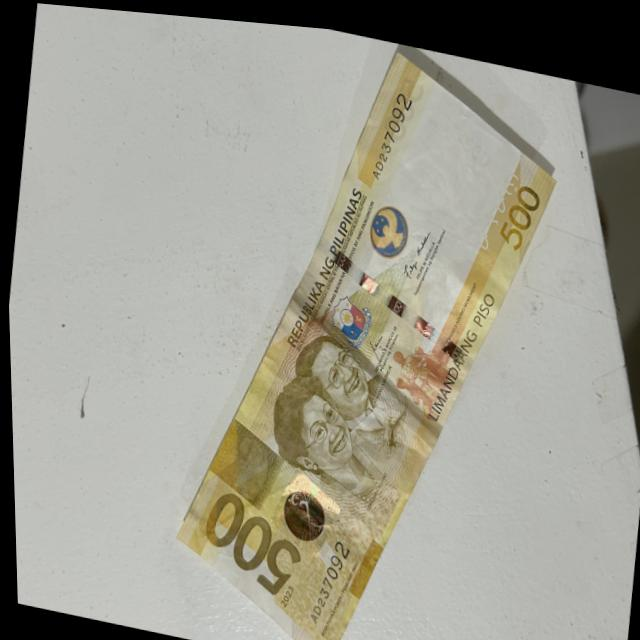concealed_value: (204, 422, 280, 497)
optically_variable_device: (346, 68, 419, 193), (276, 477, 330, 542)
security_thread: (307, 241, 472, 357)
see_through_mark: (468, 155, 520, 253)
serial_number: (303, 527, 353, 629)
value_watermark: (460, 122, 493, 159)
